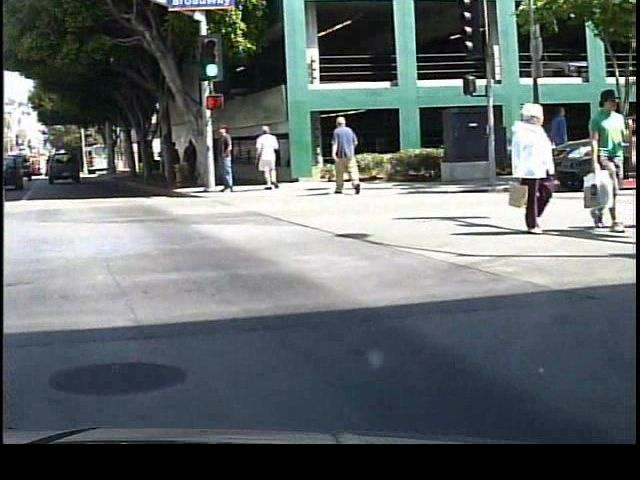person: (501, 103, 562, 240), (583, 87, 626, 237), (332, 114, 366, 196), (217, 123, 247, 205), (543, 103, 570, 181), (257, 123, 286, 195), (169, 141, 185, 187), (184, 136, 202, 168)
